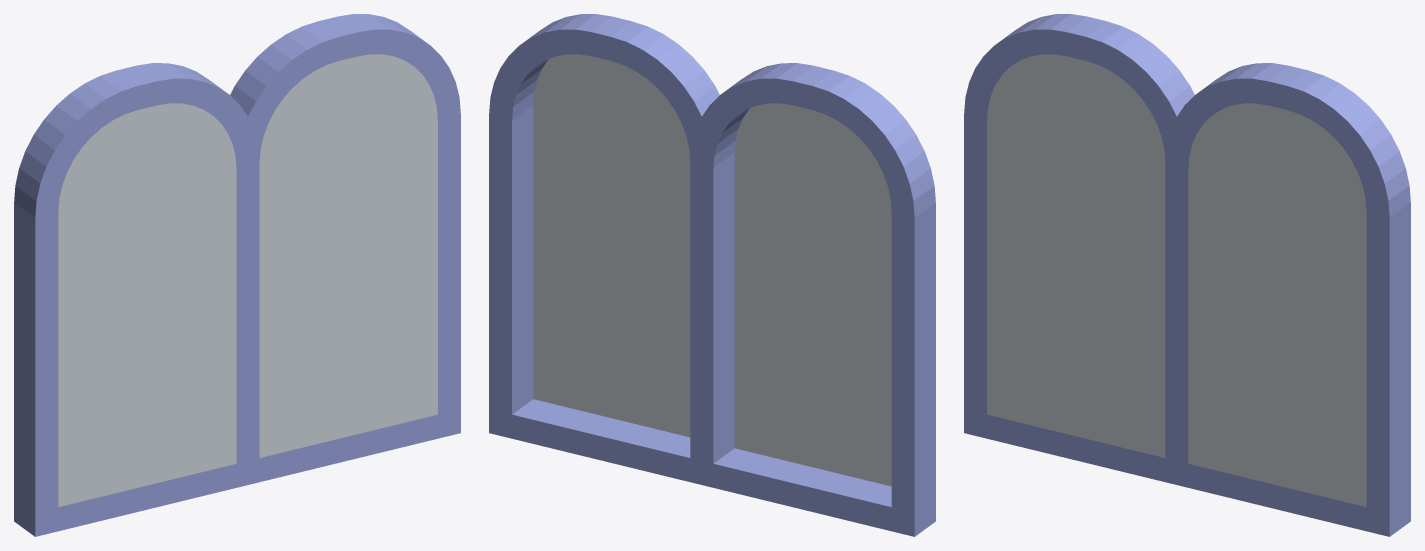
Rendered from Door1.fbx.
The picture shows the model from 3 angles, left to right: view 1: azimuth 30°, elevation 25°; view 2: azimuth 150°, elevation 25°; view 3: azimuth 330°, elevation 25°; orthographic projection.
Parts seen in each view (by area): view 1: Cube; view 2: Cube; view 3: Cube.
Part boxes in pixels (x1,y1,x2,y2): Cube: [14, 14, 460, 536]; Cube: [489, 14, 935, 536]; Cube: [964, 14, 1410, 536].
Bounding box in the file's own units: 851 × 814 × 73.38.
